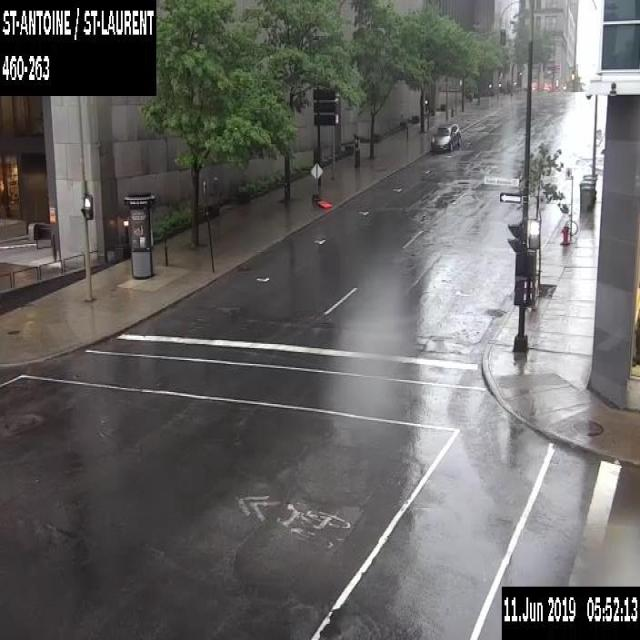construction: (311, 192, 330, 210)
vehicle: (430, 122, 460, 151)
